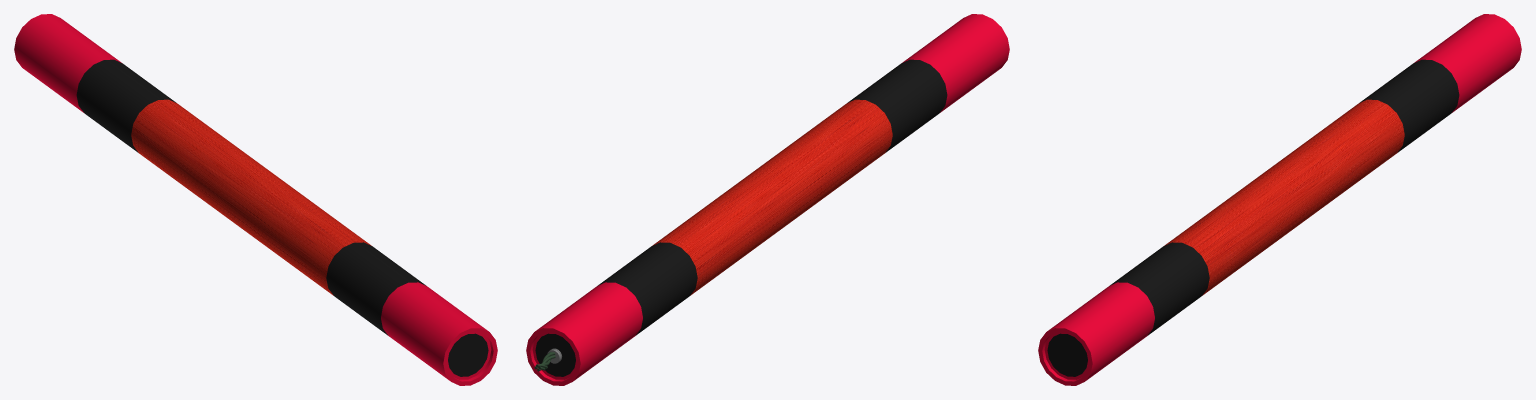
The model's file is dinamita5.fbx.
3 renders of one model, left to right at view 1: azimuth 30°, elevation 25°; view 2: azimuth 150°, elevation 25°; view 3: azimuth 330°, elevation 25°, orthographic.
Visible parts, largest first — view 1: Cylinder.041; view 2: Cylinder.041; view 3: Cylinder.041.
Part boxes in pixels (<box>): Cylinder.041: <box>14,14,497,385</box>; Cylinder.041: <box>526,14,1009,385</box>; Cylinder.041: <box>1038,14,1521,385</box>.
Size of the model in its own units: 4.04 by 4.04 by 57.1.
Materials: 5 (1 with a texture image).
